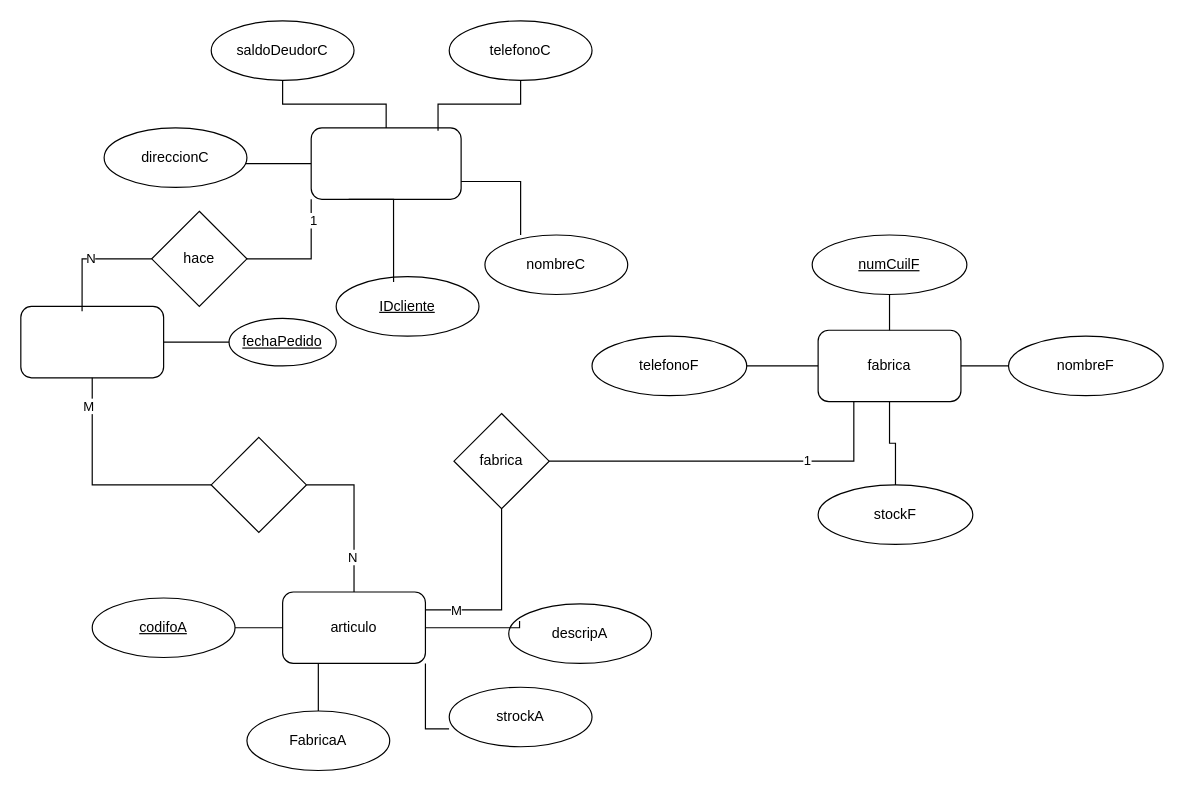
Image size: 1184x791. Some labels were removed from this diagram. The box of each missing label's shape, as (x1, y1, x2, y2) in pixels:
Cliente: (310, 127, 461, 199)
manda: (210, 436, 306, 533)
pedido: (20, 305, 164, 378)
